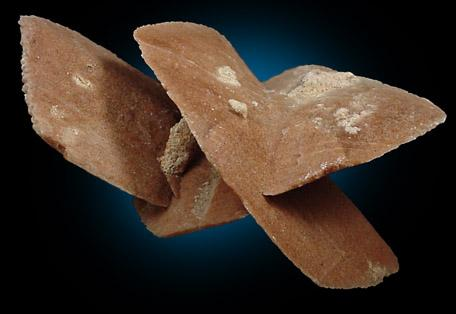gypsum: (20, 16, 447, 289)
